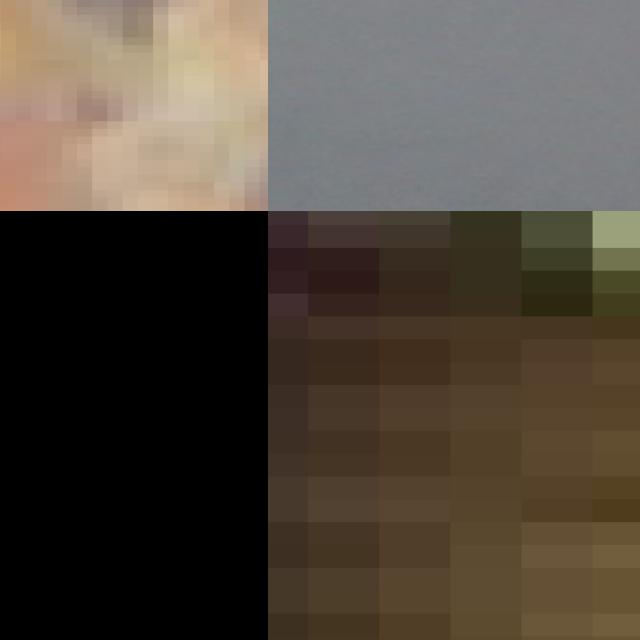fish: (268, 211, 640, 640), (268, 0, 640, 211), (0, 0, 268, 211)
